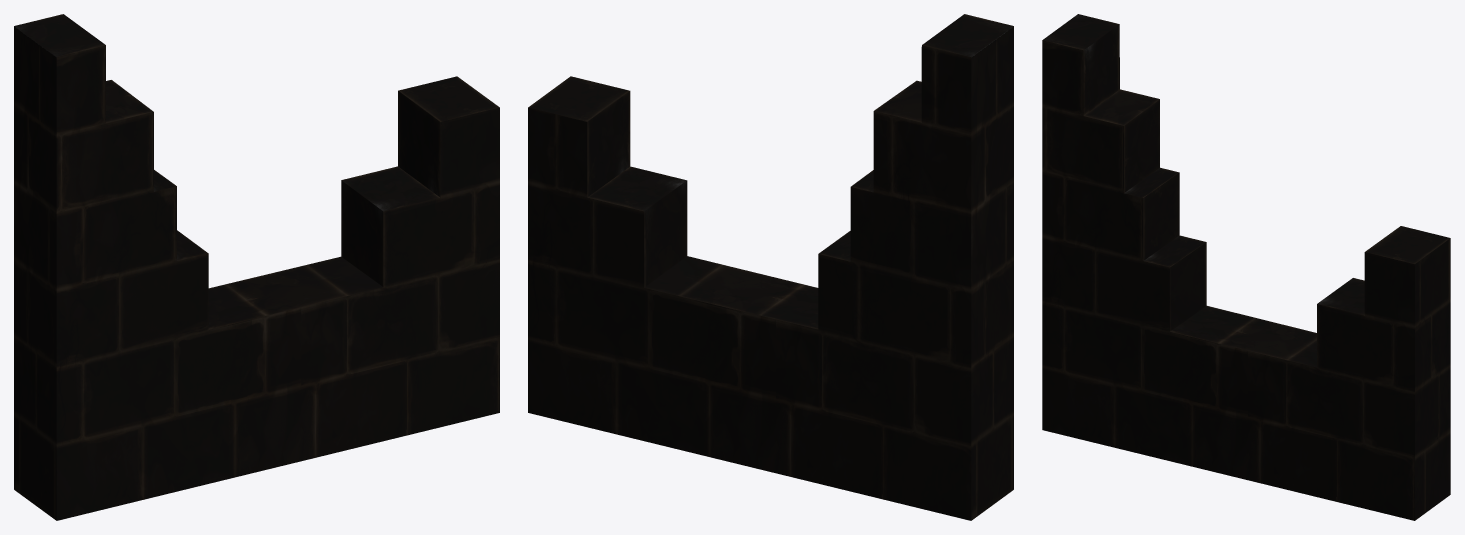
Rendered from wall_3B.fbx.
3 renders of one model, left to right at view 1: azimuth 30°, elevation 25°; view 2: azimuth 150°, elevation 25°; view 3: azimuth 330°, elevation 25°, orthographic. The views are drawn at different scales.
Parts seen in each view (by area): view 1: wall_3B; view 2: wall_3B; view 3: wall_3B.
Part boxes in pixels (<box>): wall_3B: <box>14,14,499,520</box>; wall_3B: <box>528,14,1013,520</box>; wall_3B: <box>1042,14,1450,520</box>.
Bounding box in the file's own units: 600 × 600 × 100.
